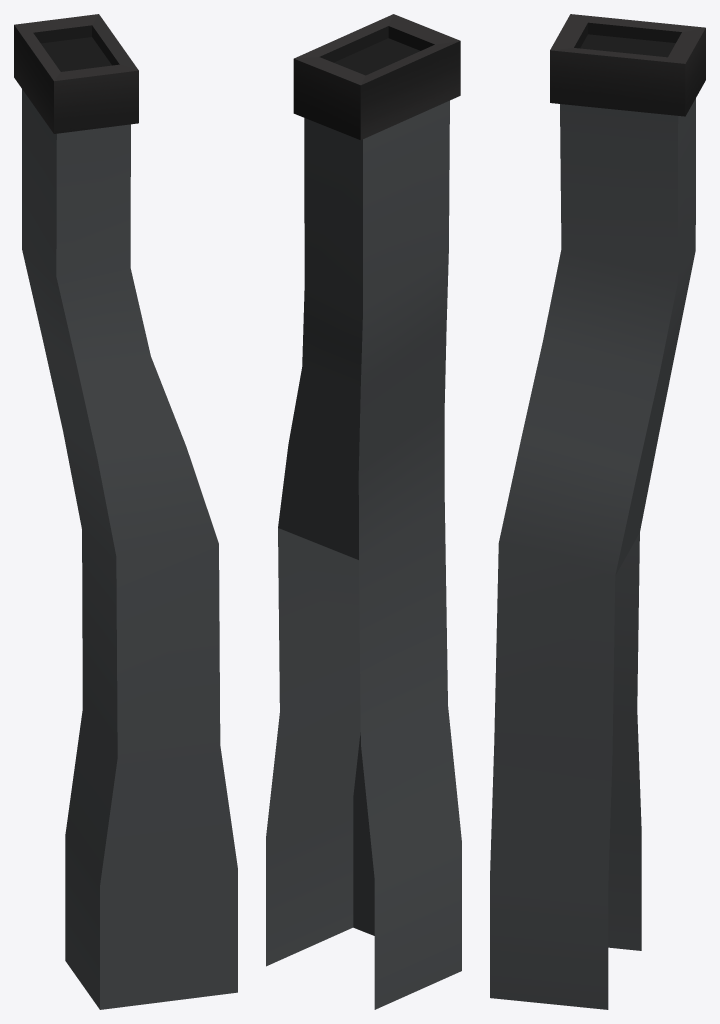
Rendered from fanasty_mod_lar_chimney04.fbx.
3 views of the same model, side by side, from view 1: azimuth 30°, elevation 25°; view 2: azimuth 150°, elevation 25°; view 3: azimuth 270°, elevation 25° (orthographic). The views are drawn at different scales.
Visible parts, largest first — view 1: large_chimney_04; view 2: large_chimney_04; view 3: large_chimney_04.
Boxes of the visible parts, box(x1,y1,x2,y2) form: large_chimney_04: box(14, 14, 237, 1009); large_chimney_04: box(266, 14, 461, 1009); large_chimney_04: box(490, 14, 705, 1009).
Size of the model in its own units: 2.52 by 13.12 by 2.81.
